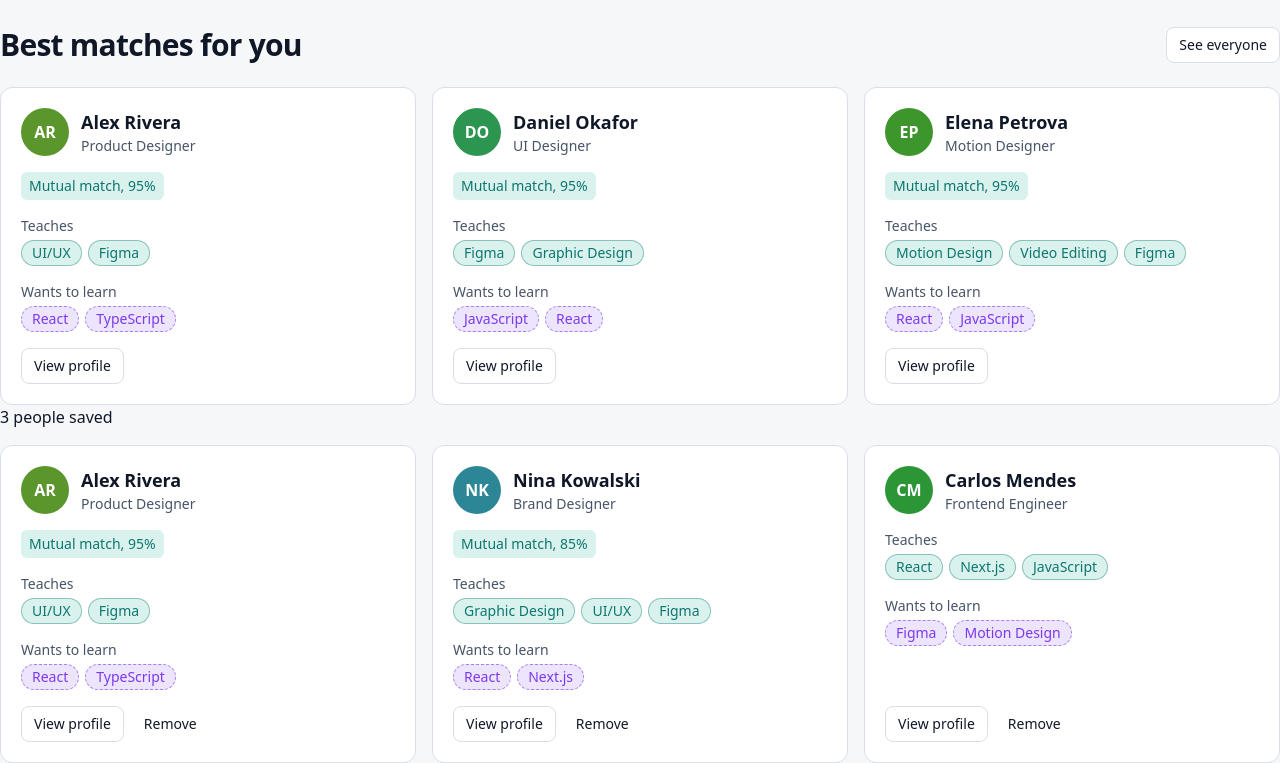
Scenario: Dashboard: stays in step with the other pages › updates the favorites number after removing someone on the Favorites page
(page scrolled)
Click the button with aria-label "Remove Alex Rivera from favorites": (170, 724) [132,706,209,742]
(page scrolled)
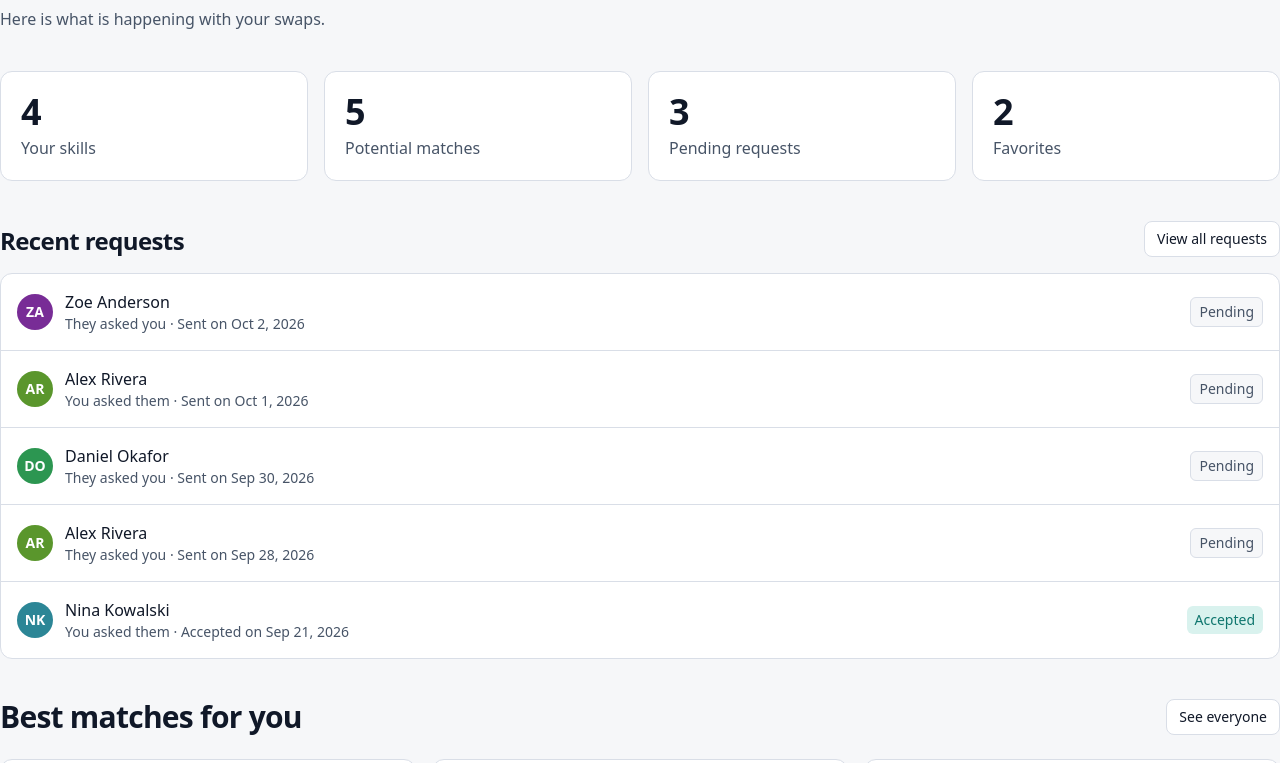
Result: the link "2 Favorites" is shown at [972,71,1279,181]
